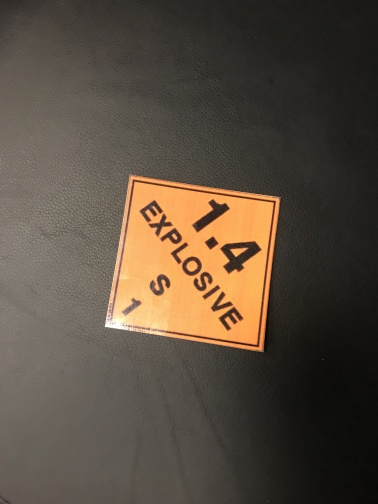Explosive: (103, 175, 280, 354)
